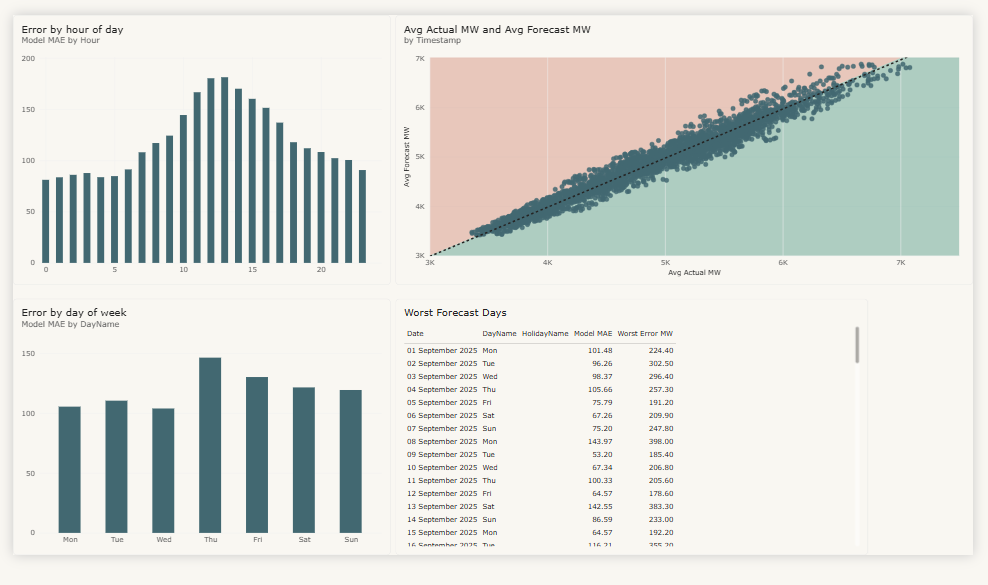

What the dashboard file says about the page in this screenshot:
{"tool":"powerbi","page":{"name":"Diagnostics","canvas":[1920,1080],"ordinal":2},"visuals":[{"type":"clusteredColumnChart","title":"Error by hour of day","fields":{"Category":["fact_predictions.Hour"],"Y":["_Measures.Model MAE"]},"box":[0,0,755,540],"z":1},{"type":"clusteredColumnChart","title":"Error by day of week","fields":{"Category":["dim_date.DayName"],"Y":["_Measures.Model MAE"]},"box":[0,567.5,755,512.5],"z":2},{"type":"scatterChart","fields":{"Category":["fact_predictions.Timestamp"],"X":["_Measures.Avg Actual MW"],"Y":["_Measures.Avg Forecast MW"]},"box":[765,0,1155,540],"z":3},{"type":"tableEx","title":"Worst Forecast Days","fields":{"Values":["dim_date.Date","dim_date.DayName","dim_date.HolidayName","_Measures.Model MAE","_Measures.Worst Error MW"]},"box":[765,567.5,945,512.5],"z":4}]}

Visuals, with their boxes on the page's 1920x1080 design canvas (x1, y1, x2, y2). These are canvas units, not pixel positions in the 988x585 screenshot, which may show the page scaled, cropped or inside an application window:
"Error by hour of day" clusteredColumnChart: [0,0,755,540]
"Error by day of week" clusteredColumnChart: [0,568,755,1080]
scatterChart - fact_predictions.Timestamp x _Measures.Avg Actual MW: [765,0,1920,540]
"Worst Forecast Days" tableEx: [765,568,1710,1080]
